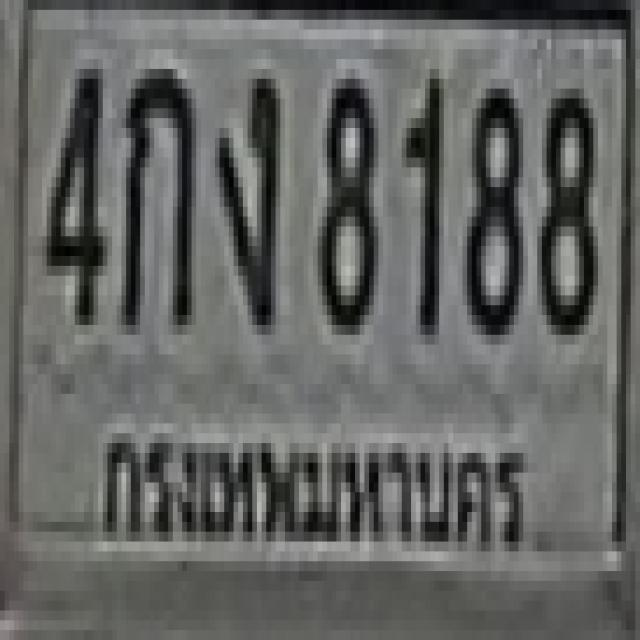1: (402, 69, 439, 325)
4: (42, 59, 98, 315)
8: (313, 69, 374, 325), (538, 79, 594, 325), (462, 79, 518, 325)
A01: (117, 59, 191, 325)
A07: (215, 69, 276, 325)
BKK: (89, 407, 536, 570)
